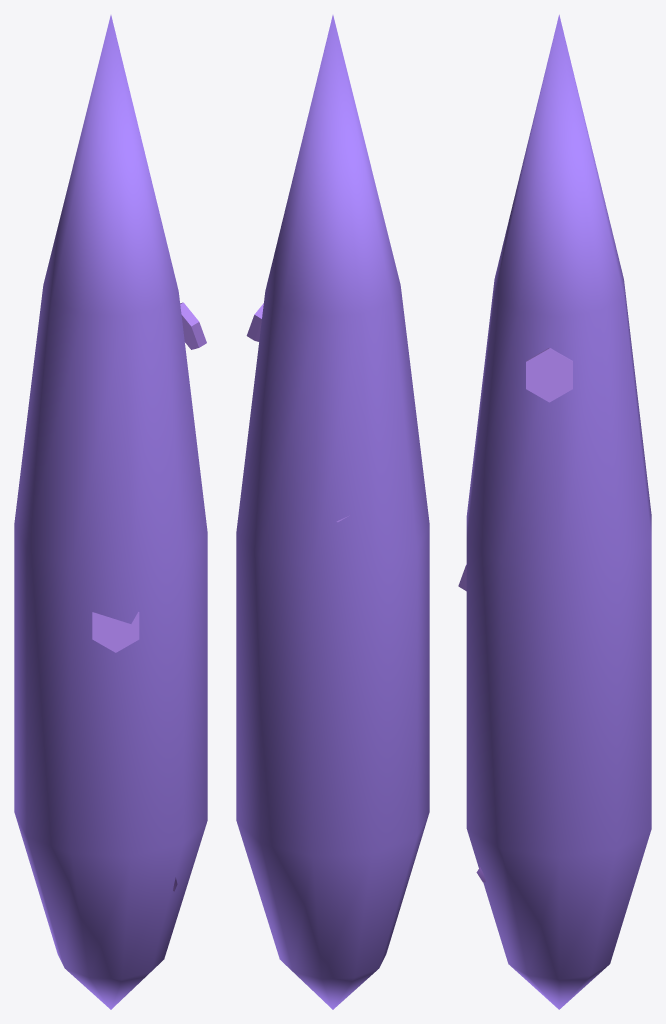
The model's file is rodfx-reserved-slate.glb.
The picture shows the model from 3 angles, left to right: view 1: azimuth 30°, elevation 25°; view 2: azimuth 150°, elevation 25°; view 3: azimuth 270°, elevation 25°; orthographic projection.
Parts seen in each view (by area): view 1: Aura.001, Plates; view 2: Aura.001; view 3: Aura.001, Plates.
Boxes of the visible parts, x1,y1,x2,y2 form: Aura.001: (14, 15, 207, 1009); Plates: (92, 302, 206, 652); Aura.001: (236, 15, 429, 1009); Aura.001: (466, 14, 651, 1009); Plates: (458, 347, 572, 591).
Size of the model in its own units: 0.2 by 1.13 by 0.1989.
